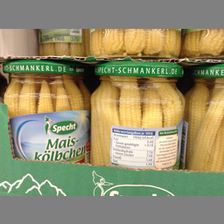corn: (89, 63, 183, 168), (3, 60, 87, 164), (186, 65, 224, 172)
